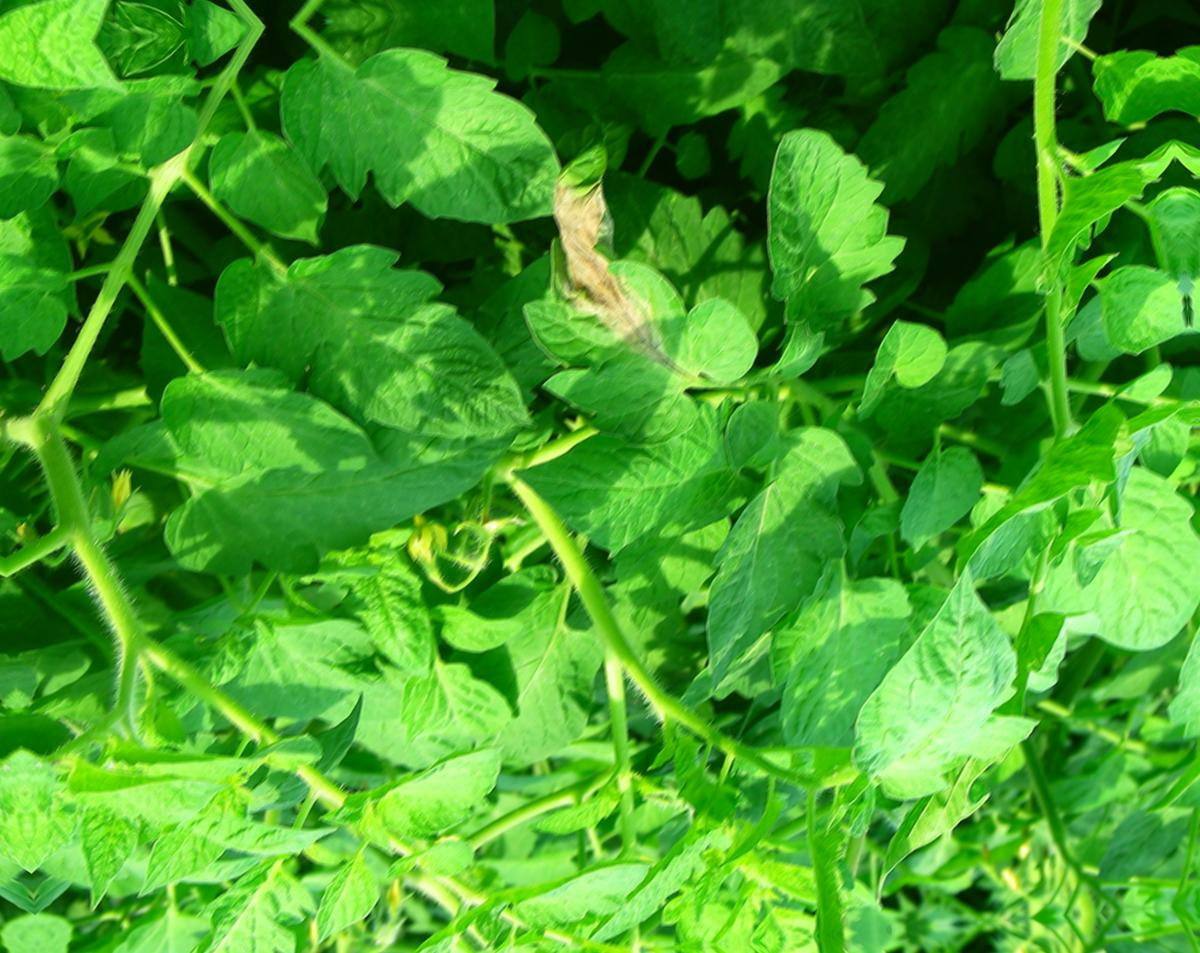Tomato leaf: (211, 196, 536, 469), (665, 389, 884, 706), (269, 25, 572, 229), (766, 519, 932, 781), (752, 110, 921, 366), (166, 334, 369, 512), (1043, 462, 1200, 666), (199, 115, 340, 258), (349, 747, 522, 834)
Tomato leaf late blight: (520, 192, 753, 424)
